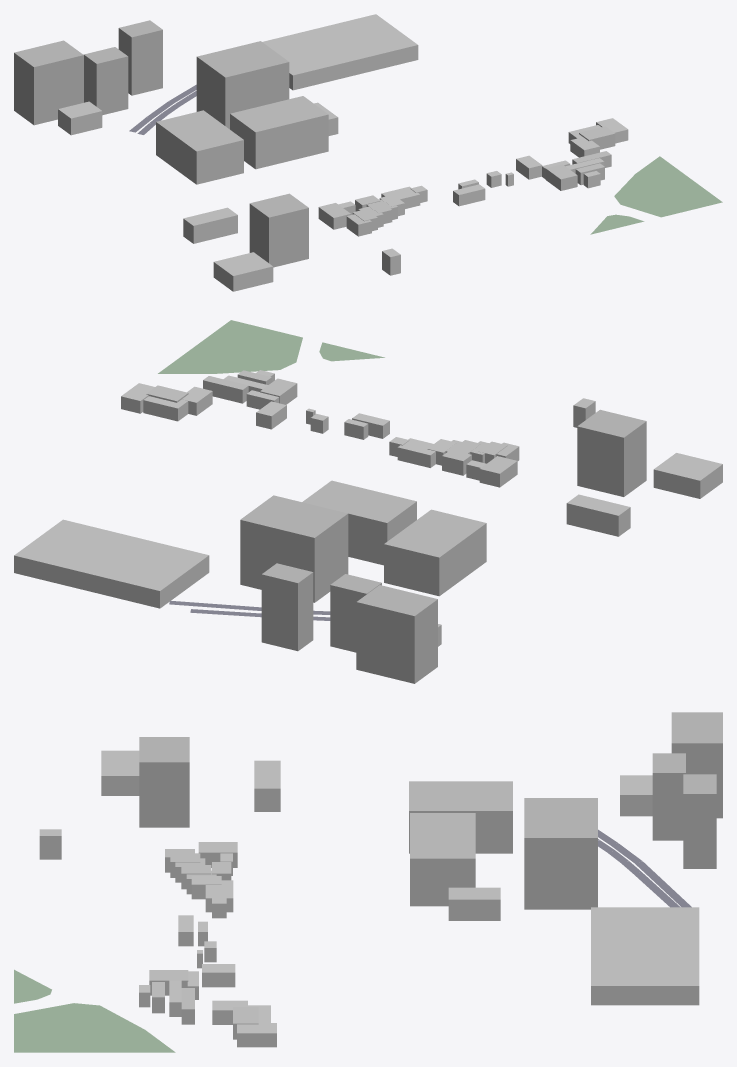
File: 132_94_mid.glb
3 renders of one model, top to bottom at view 1: azimuth 30°, elevation 25°; view 2: azimuth 150°, elevation 25°; view 3: azimuth 270°, elevation 25°, orthographic. The views are drawn at different scales.
Bounding box in the file's own units: 489 × 61.16 × 513.
